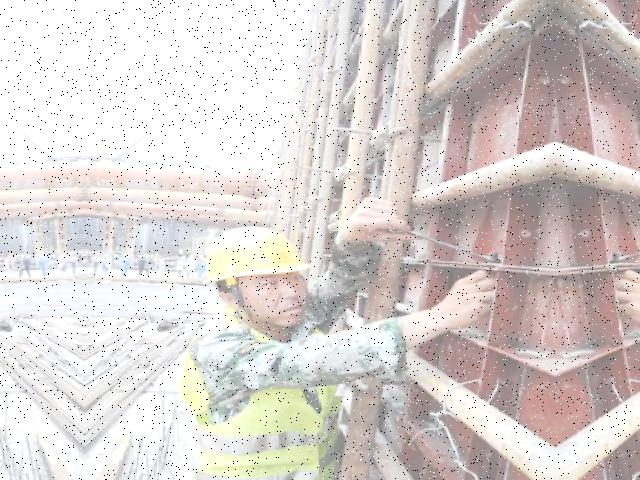Helmet: (200, 222, 316, 288)
